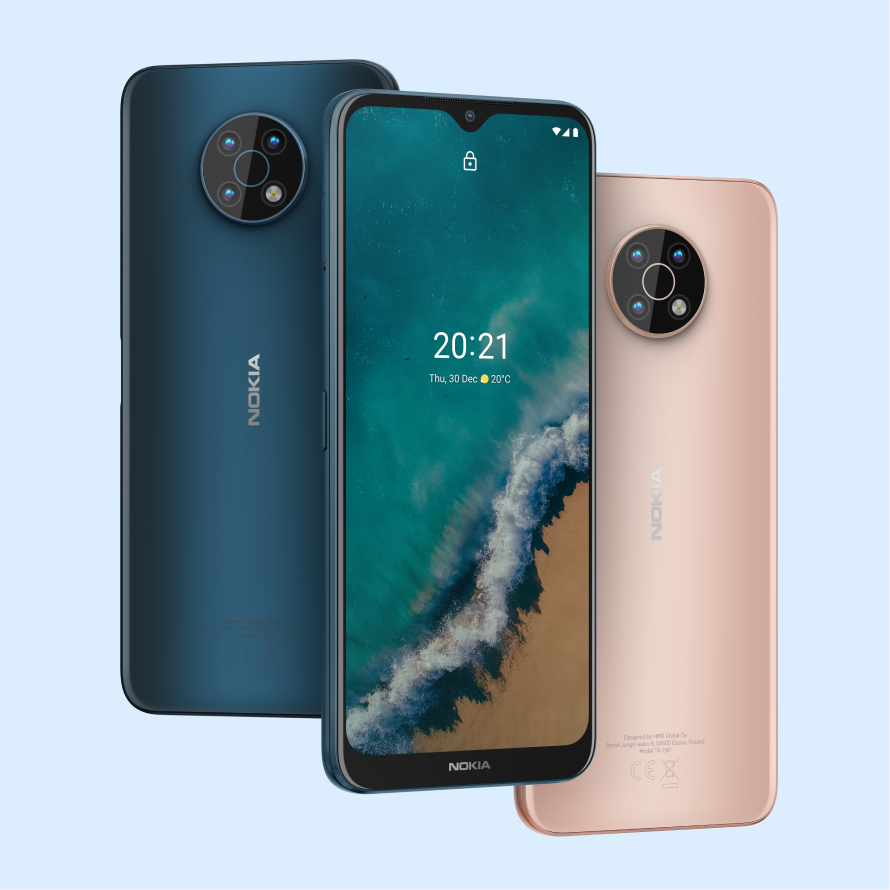phone: (310, 80, 612, 796)
